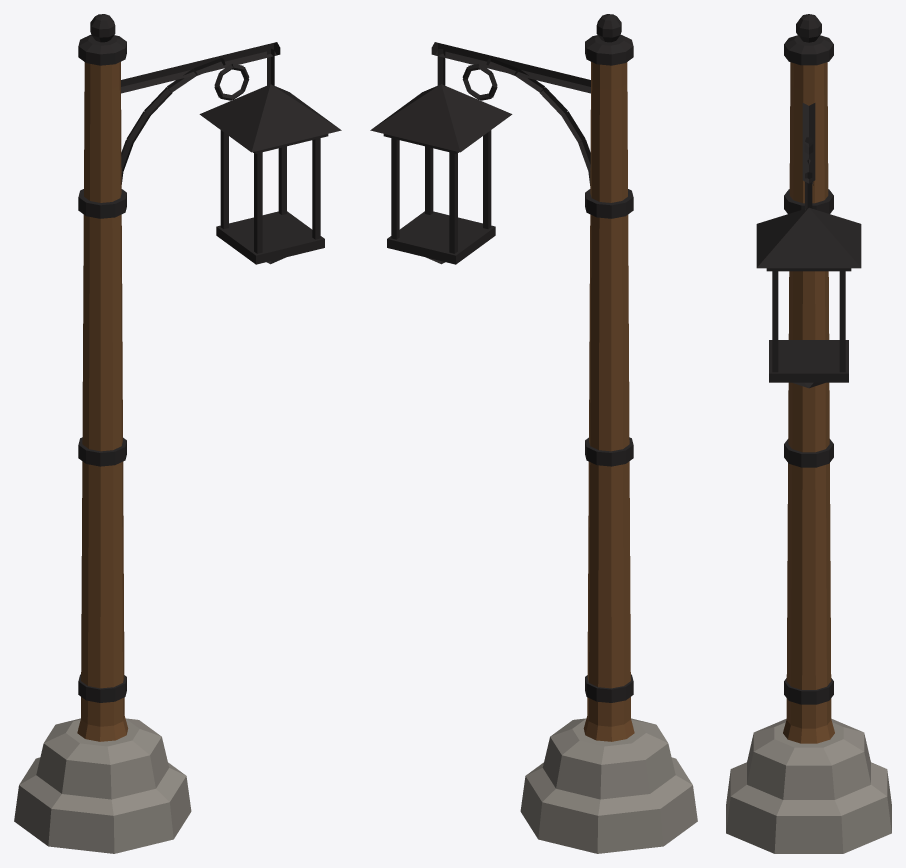
The model's file is Street_Lamp.obj.
3 views of the same model, side by side, from view 1: azimuth 30°, elevation 25°; view 2: azimuth 150°, elevation 25°; view 3: azimuth 270°, elevation 25° (orthographic).
Parts seen in each view (by area): view 1: Street_Lamp; view 2: Street_Lamp; view 3: Street_Lamp.
Boxes of the visible parts, left/top/right/bottom form: Street_Lamp: left=14, top=14, right=341, bottom=853; Street_Lamp: left=370, top=14, right=697, bottom=853; Street_Lamp: left=726, top=14, right=891, bottom=853.
Size of the model in its own units: 1.32 by 3.56 by 0.6652.
